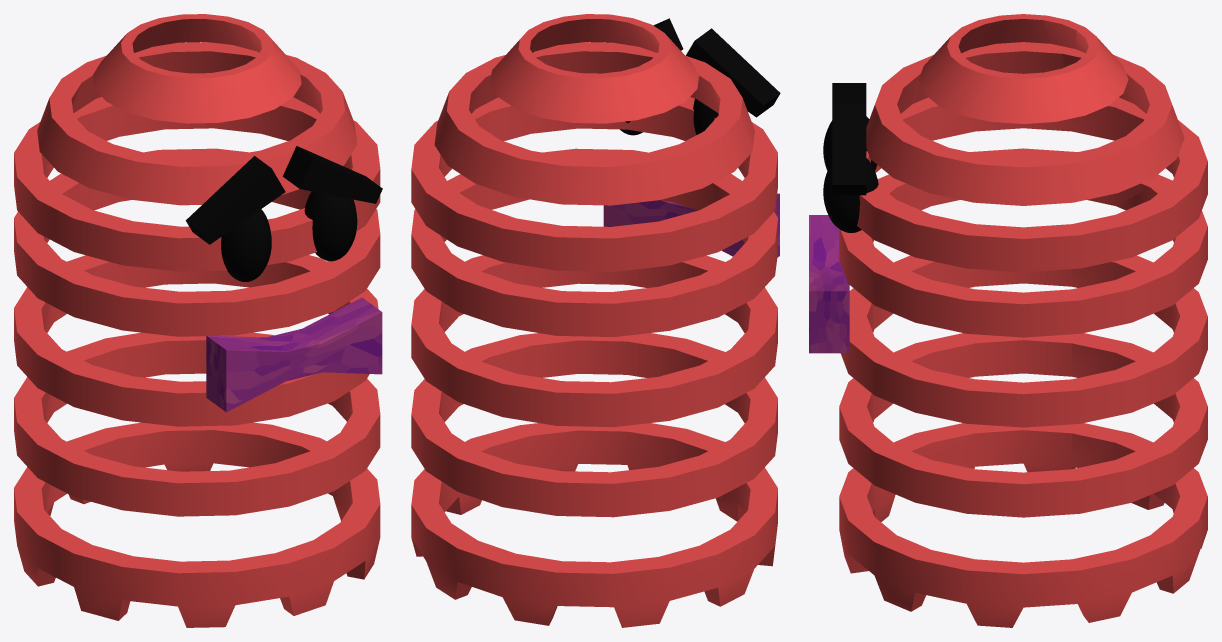
The model's file is GhostMainChar.fbx.
3 views of the same model, side by side, from view 1: azimuth 30°, elevation 25°; view 2: azimuth 150°, elevation 25°; view 3: azimuth 270°, elevation 25° (orthographic).
Visible parts, largest first — view 1: pCylinder12; view 2: pCylinder12; view 3: pCylinder12.
Part boxes in pixels (box(x1,y1,x2,y2)): pCylinder12: box(14, 14, 382, 627); pCylinder12: box(411, 14, 780, 627); pCylinder12: box(809, 14, 1207, 627).
Size of the model in its own units: 11.64 by 17.65 by 12.59.
3 materials, 1 textured.
